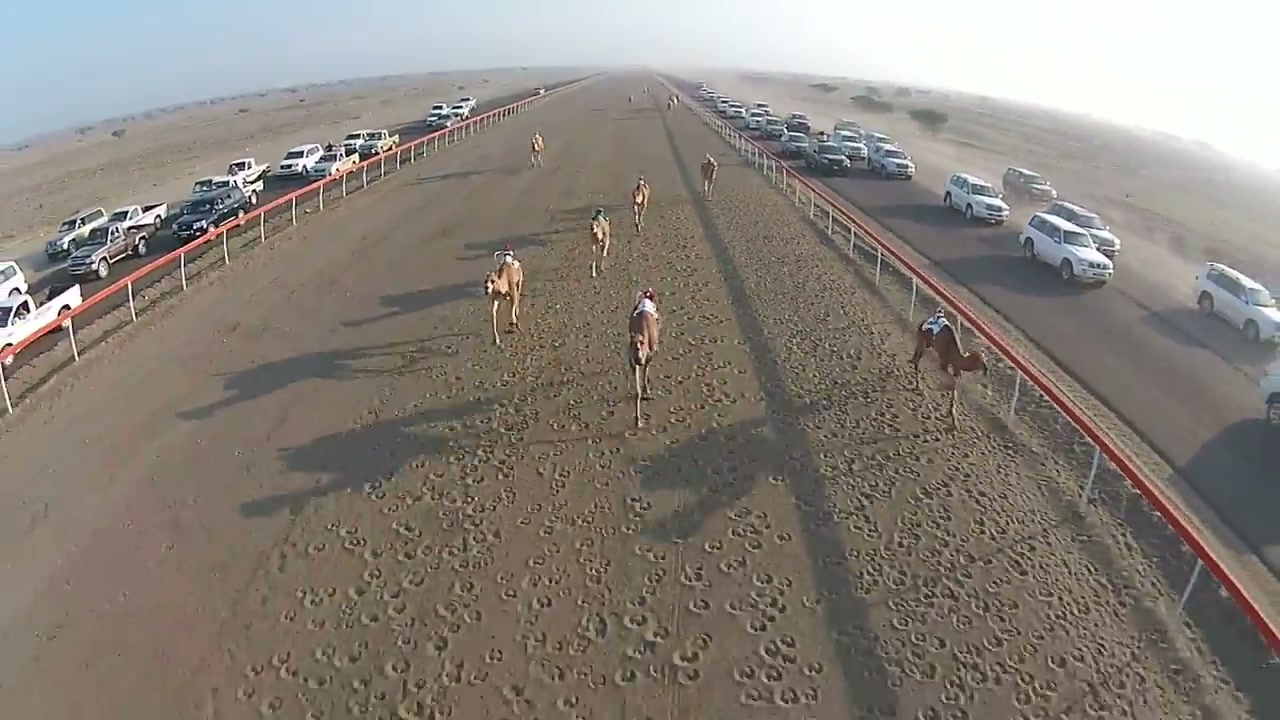animal_footprint: (5, 88, 1269, 719), (226, 173, 1237, 718)
